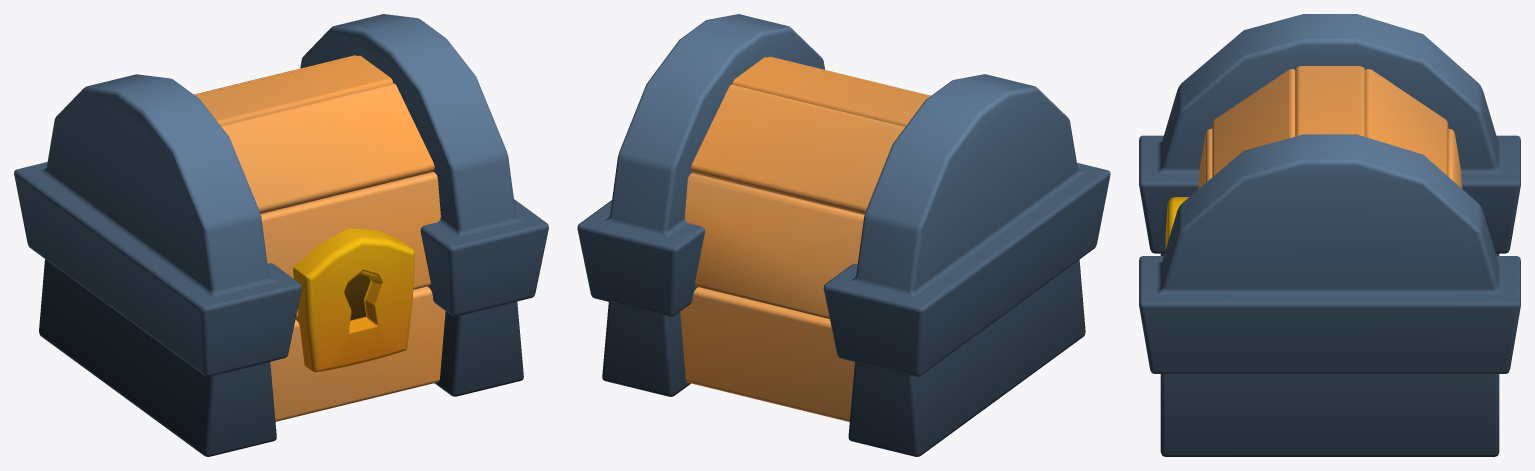
Rendered from Chest 1.fbx.
3 views of the same model, side by side, from view 1: azimuth 30°, elevation 25°; view 2: azimuth 150°, elevation 25°; view 3: azimuth 270°, elevation 25° (orthographic).
Parts seen in each view (by area): view 1: Cube.006; view 2: Cube.006; view 3: Cube.006.
Boxes of the visible parts, bbox=[...] form: Cube.006: bbox=[14, 14, 548, 456]; Cube.006: bbox=[577, 14, 1110, 456]; Cube.006: bbox=[1139, 14, 1520, 456].
Bounding box in the file's own units: 218 × 177 × 208.
